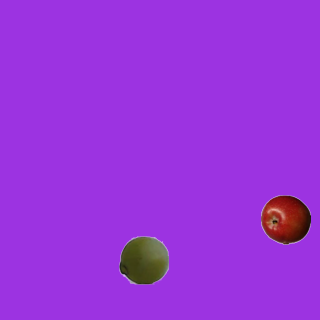Apple Braeburn: (260, 194, 310, 244)
Grape White 4: (118, 234, 168, 284)
